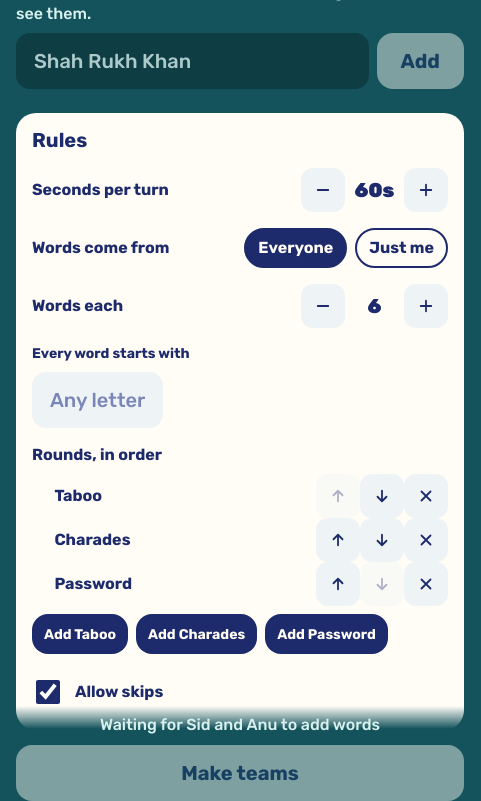
settings taps › counts every quick tap on a stepper instead of repeating the same value
The width and height of the screenshot is (481, 801).
(page scrolled)
Click the button named "Less words each". click: (323, 306)
box: [301,284,345,328]
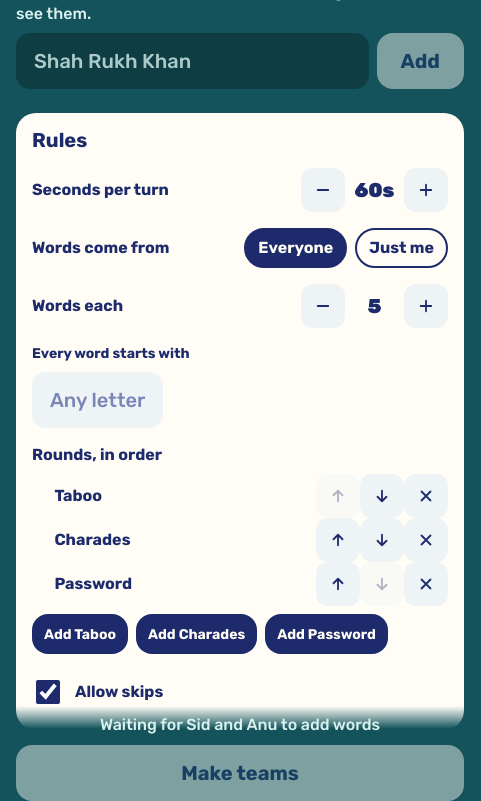
Click the button named "Less words each". click: (323, 306)
box: [301,284,345,328]
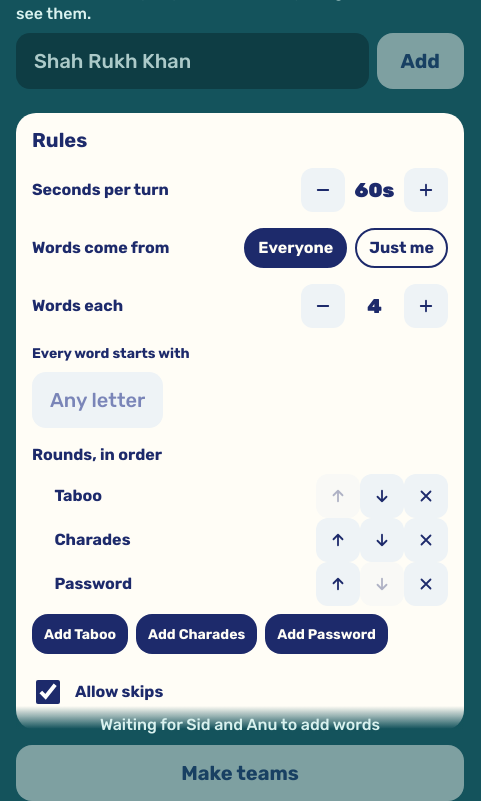
Click the button named "Less words each". click: (323, 306)
box: [301,284,345,328]
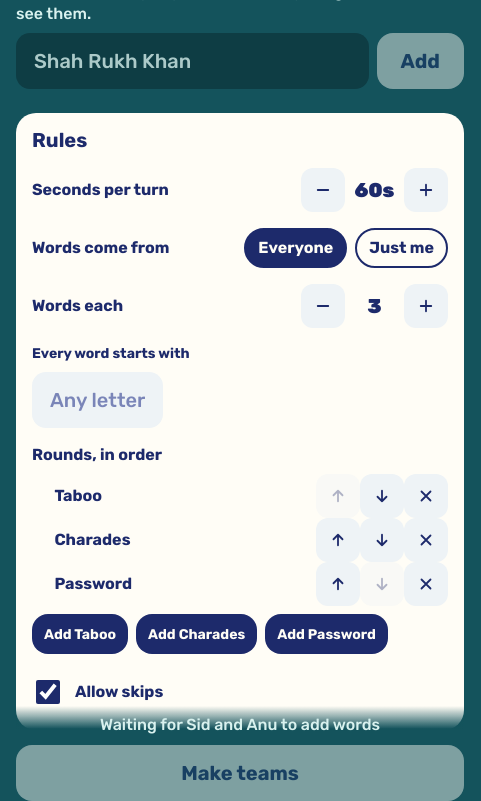
Expected: the element "Words each" shows "3", [368,294,382,318]
